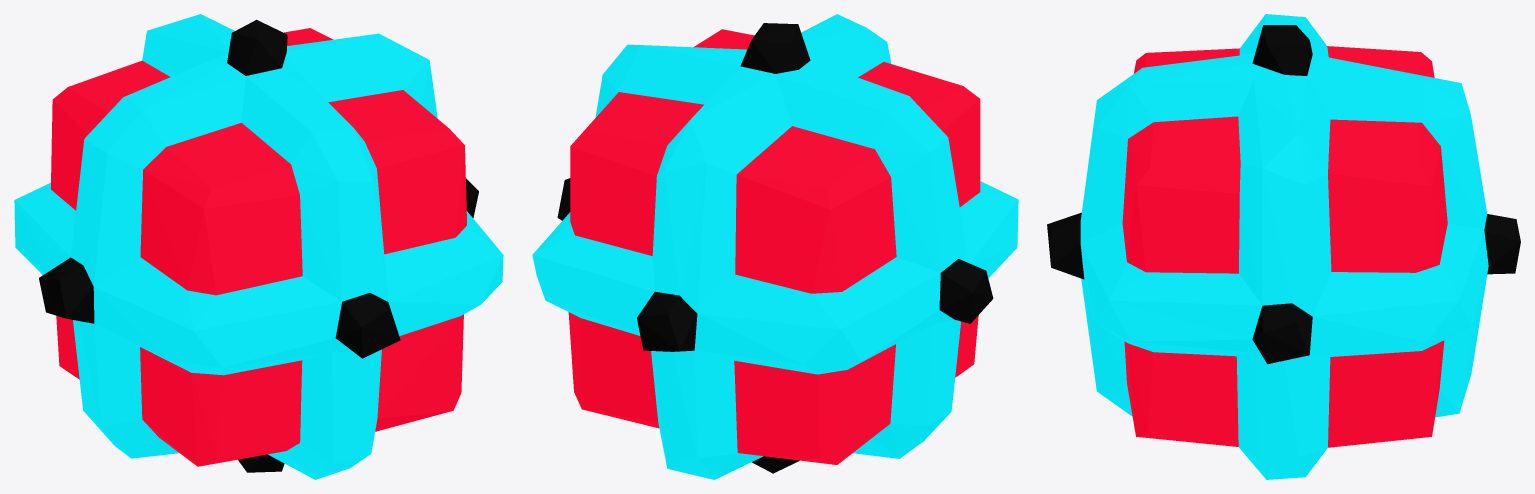
The model's file is bomb.glb.
3 renders of one model, left to right at view 1: azimuth 30°, elevation 25°; view 2: azimuth 150°, elevation 25°; view 3: azimuth 270°, elevation 25°, orthographic. The views are drawn at different scales.
Parts seen in each view (by area): view 1: bomb; view 2: bomb; view 3: bomb.
Part boxes in pixels (left/top/right/bottom): bomb: left=14, top=14, right=503, bottom=479; bomb: left=532, top=14, right=1018, bottom=479; bomb: left=1047, top=14, right=1520, bottom=479.
Size of the model in its own units: 2.16 by 2.16 by 2.16.
